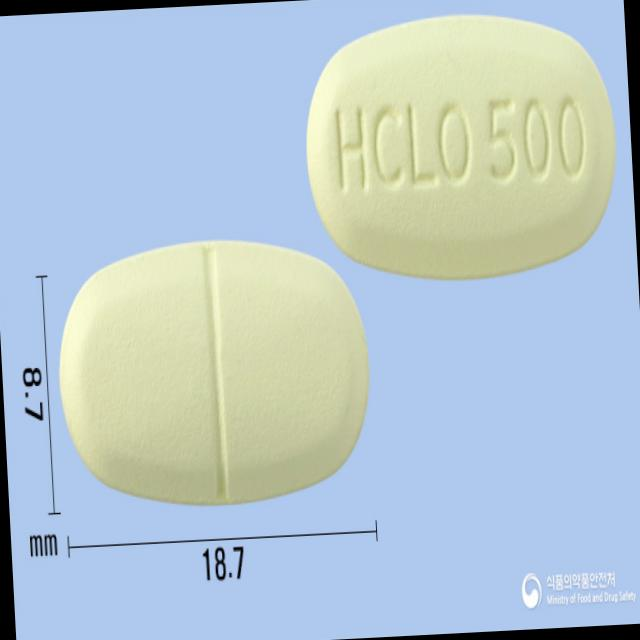Hericlo: (298, 4, 624, 290)
